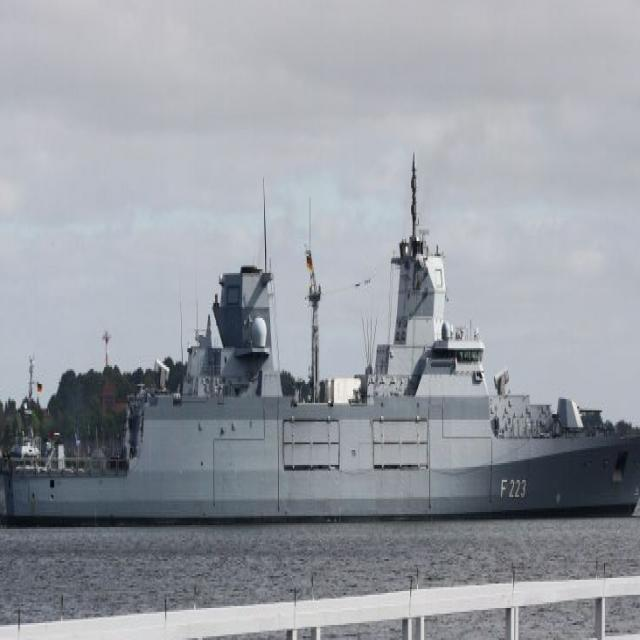Fragata: (1, 157, 640, 543)
